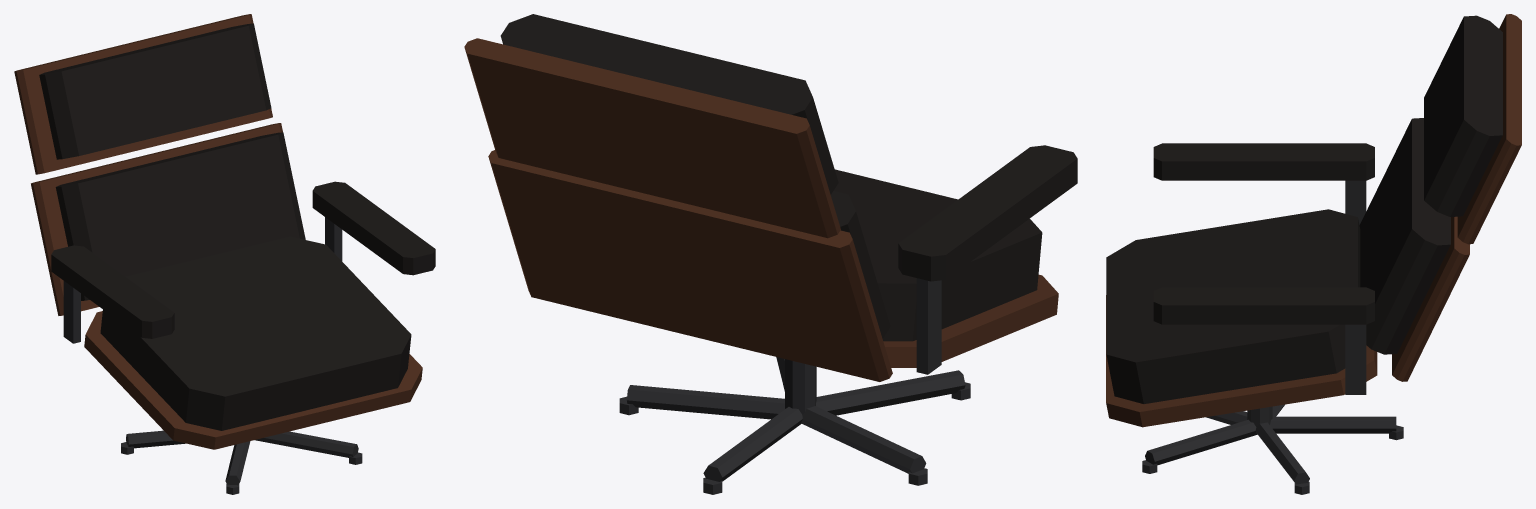
The model's file is chair_eames_style.glb.
The picture shows the model from 3 angles, left to right: view 1: azimuth 30°, elevation 25°; view 2: azimuth 150°, elevation 25°; view 3: azimuth 270°, elevation 25°; orthographic projection. The views are drawn at different scales.
Visible parts, largest first — view 1: Chair_eames_style; view 2: Chair_eames_style; view 3: Chair_eames_style.
Boxes of the visible parts, x1=… form: Chair_eames_style: x1=14, y1=14, x2=435, y2=494; Chair_eames_style: x1=464, y1=14, x2=1077, y2=494; Chair_eames_style: x1=1106, y1=14, x2=1521, y2=494.
Bounding box in the file's own units: 0.9 × 0.9553 × 0.9765.
